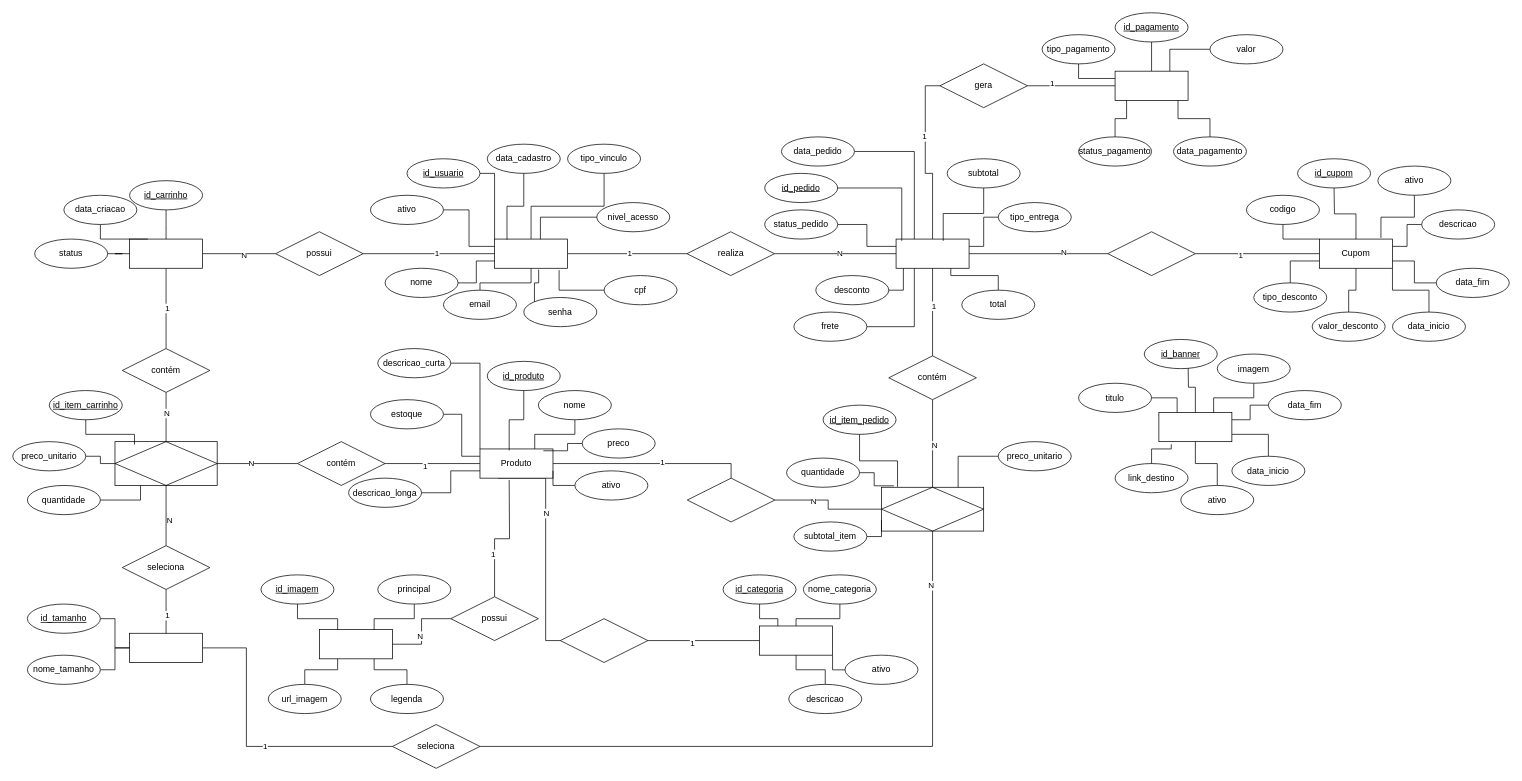
Image size: 1522x781. Some labels were removed from this diagram. Each missing label, with the box of its shape:
Banner: (1158, 412, 1232, 442)
Carrinho: (129, 238, 203, 268)
Categoria: (759, 625, 833, 655)
Imagem_Produto: (319, 629, 392, 659)
inclui: (687, 477, 775, 522)
Item_Carrinho: (114, 441, 217, 485)
item_pedido: (881, 487, 984, 531)
Pagamento: (1114, 70, 1188, 100)
Pedido: (895, 238, 969, 268)
pertence: (560, 618, 648, 662)
Tamanho: (129, 633, 203, 662)
Usuário: (494, 238, 568, 268)
utiliza: (1107, 231, 1195, 276)
